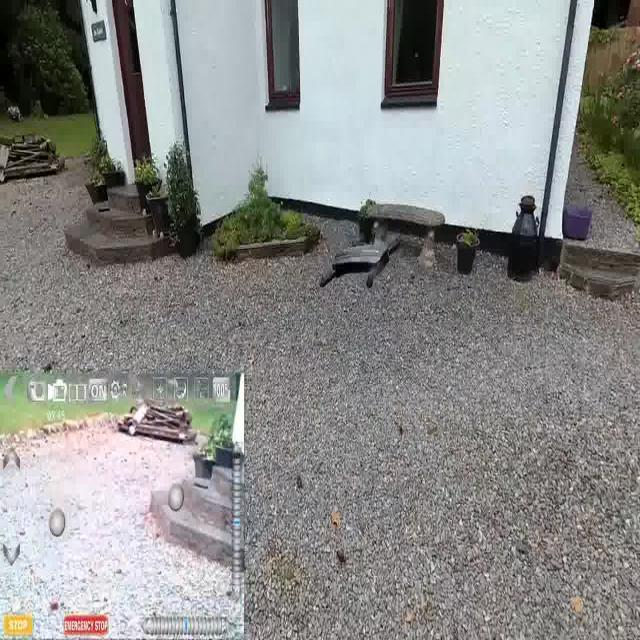drone: (315, 238, 400, 296)
